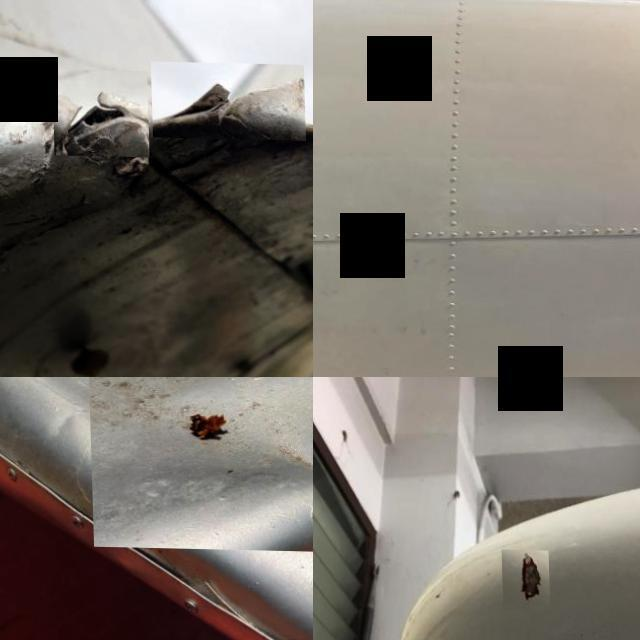Crack: (150, 60, 304, 139), (51, 68, 148, 156), (500, 548, 549, 609)
Dent: (86, 377, 313, 550)
